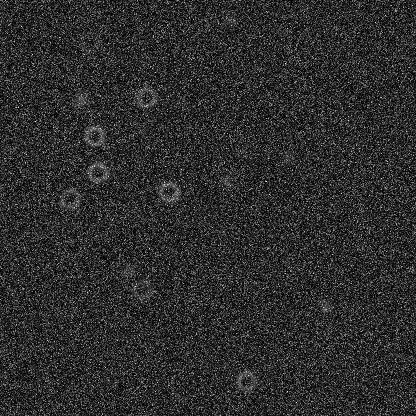Ring: (77, 29, 101, 53), (85, 160, 109, 184), (129, 277, 153, 301), (57, 186, 81, 210), (134, 85, 158, 109), (82, 123, 106, 147), (156, 179, 180, 203), (234, 369, 258, 393)
Spot: (121, 262, 137, 278), (317, 299, 333, 315), (232, 143, 248, 159), (73, 92, 89, 108), (222, 11, 238, 27), (219, 173, 235, 189), (244, 278, 260, 294), (280, 148, 296, 164)
